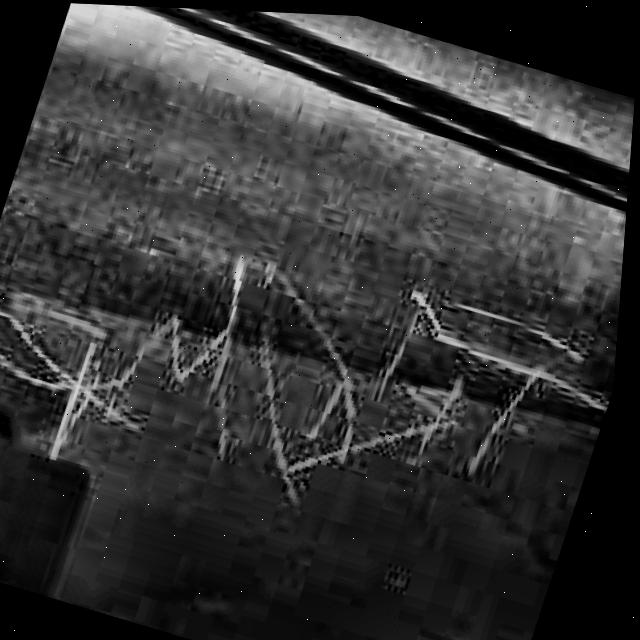door_scratch: (0, 186, 600, 576)
